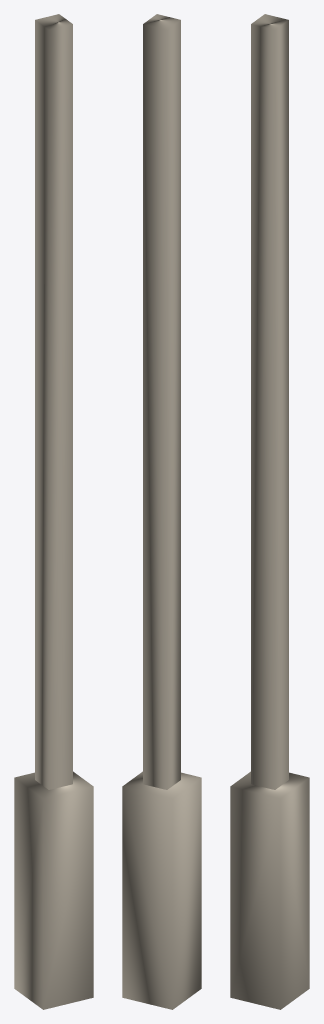
The model's file is stiletto.glb.
3 views of the same model, side by side, from view 1: azimuth 30°, elevation 25°; view 2: azimuth 150°, elevation 25°; view 3: azimuth 330°, elevation 25° (orthographic).
Parts seen in each view (by area): view 1: stiletto; view 2: stiletto; view 3: stiletto.
Boxes of the visible parts, <box> form: stiletto: <box>14,14,93,1009</box>; stiletto: <box>122,14,201,1009</box>; stiletto: <box>230,14,309,1009</box>.
Bounding box in the file's own units: 0.025 × 0.46 × 0.025.
